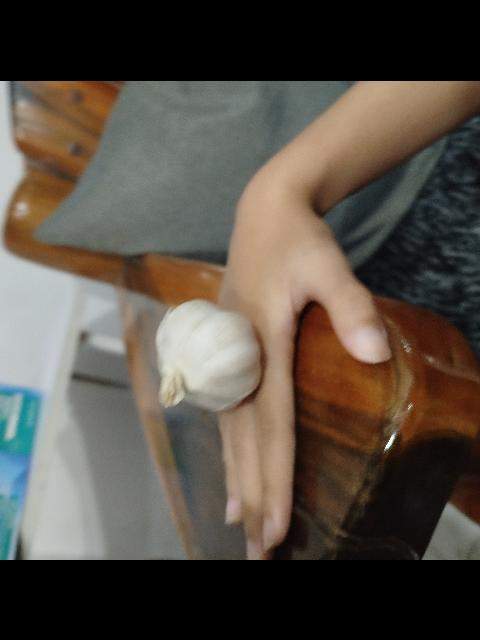garlic: (154, 297, 262, 411)
